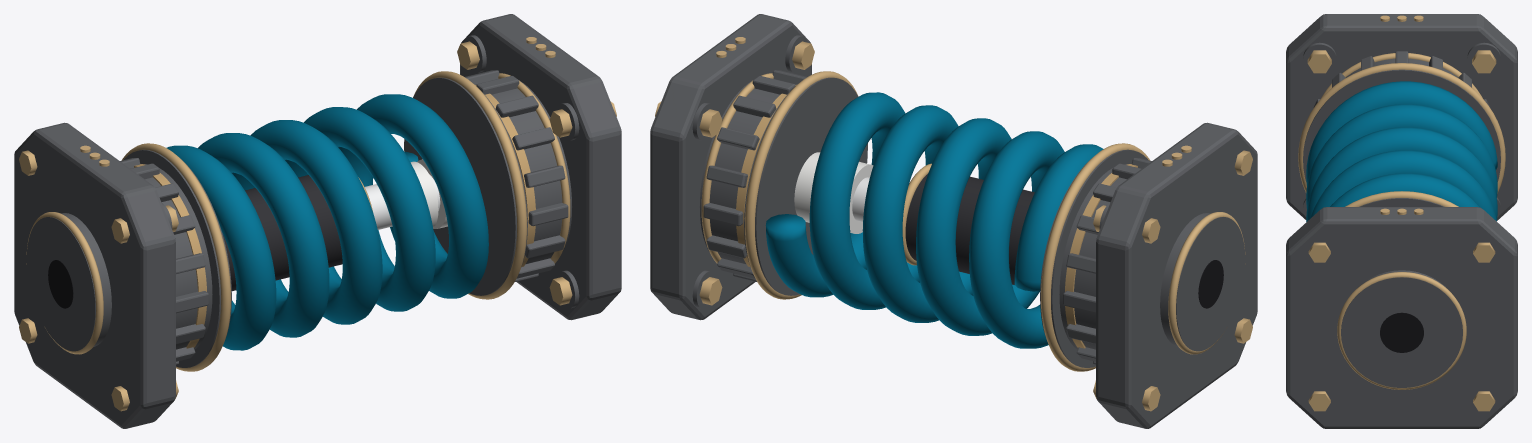
The model's file is sport_suspension_3.glb.
3 renders of one model, left to right at view 1: azimuth 30°, elevation 25°; view 2: azimuth 150°, elevation 25°; view 3: azimuth 270°, elevation 25°, orthographic. The views are drawn at different scales.
Visible parts, largest first — view 1: mountFlex, Stator, mount; view 2: mountFlex, Stator, mount; view 3: mount, Stator, mountFlex.
Part boxes in pixels (x1,y1,x2,y2): mountFlex: (166, 94, 488, 350); Stator: (14, 122, 231, 428); mount: (404, 14, 621, 320); mountFlex: (765, 92, 1103, 348); Stator: (1040, 122, 1257, 428); mount: (650, 14, 867, 320); mount: (1286, 191, 1517, 428); Stator: (1286, 14, 1517, 220); mountFlex: (1306, 81, 1497, 221).
Bounding box in the file's own units: 0.501 × 0.2225 × 0.22.
